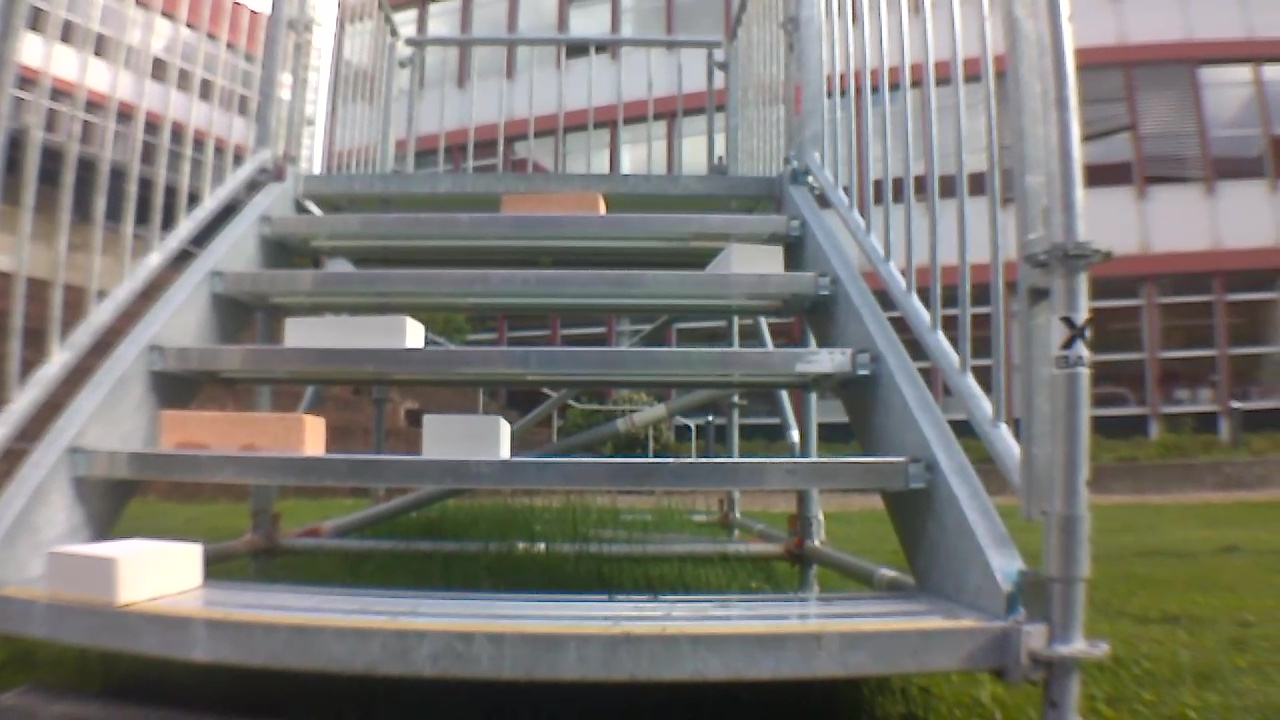brick: (50, 537, 203, 603), (161, 410, 324, 455), (286, 317, 425, 346), (425, 416, 510, 458), (703, 243, 783, 272), (502, 193, 605, 212)
edge: (1, 593, 1012, 678), (73, 448, 934, 486), (150, 346, 875, 373), (215, 270, 839, 294), (259, 213, 809, 235), (300, 175, 780, 196)
stairs: (5, 5, 1117, 709)
steps: (2, 143, 1030, 685)
